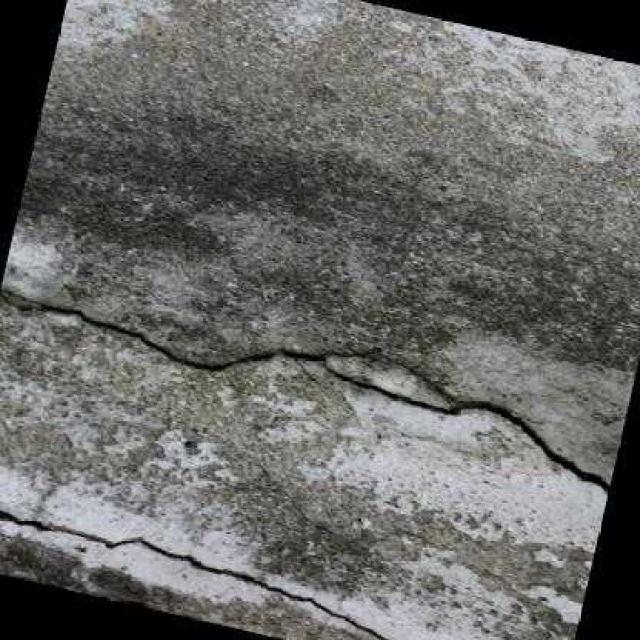D00: (0, 288, 611, 498), (0, 506, 402, 640)
